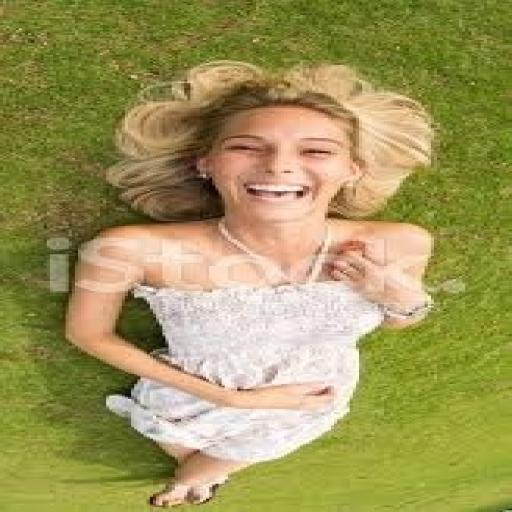laughing: (56, 57, 446, 507)
